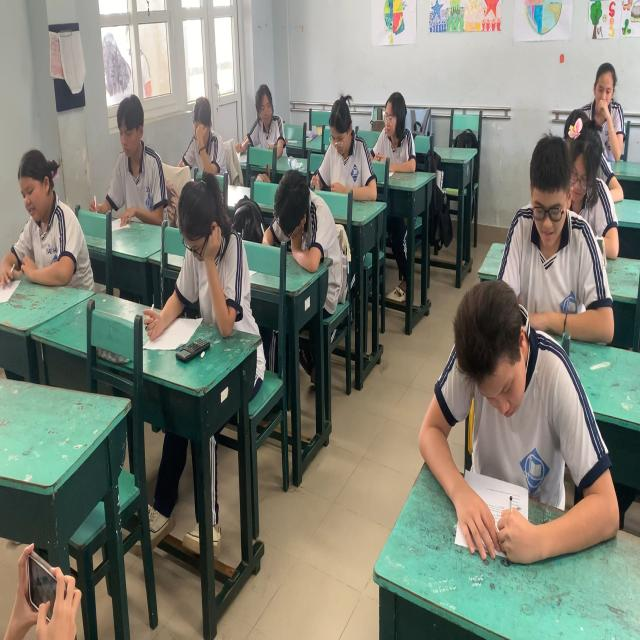not_cheating: (408, 278, 619, 565), (498, 143, 620, 344), (8, 130, 104, 288), (560, 91, 621, 291), (162, 188, 233, 336), (106, 92, 167, 219), (317, 99, 374, 212), (269, 140, 313, 257), (191, 74, 233, 175), (372, 84, 414, 182), (593, 56, 627, 160), (245, 81, 286, 157)
